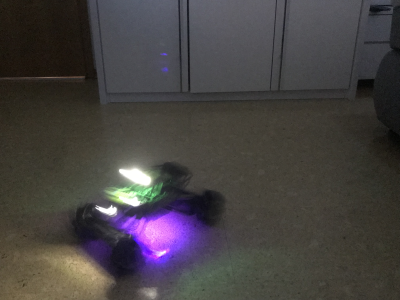remote control car: (66, 158, 226, 276)
